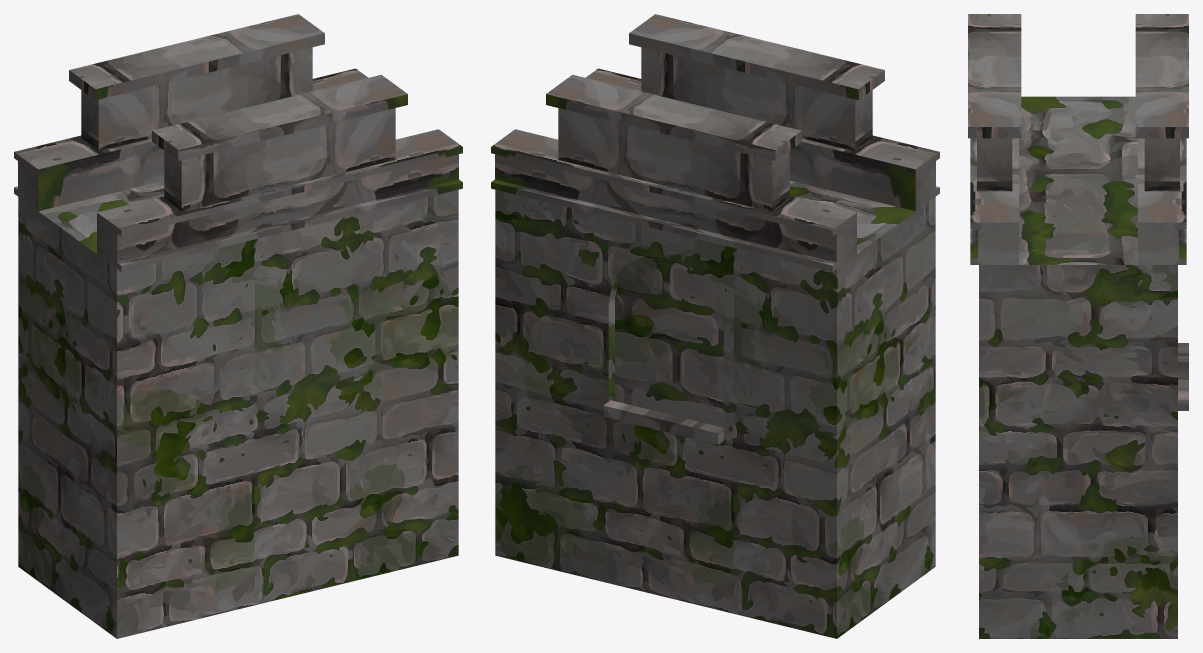
The model's file is wall00.fbx.
3 views of the same model, side by side, from view 1: azimuth 30°, elevation 25°; view 2: azimuth 150°, elevation 25°; view 3: azimuth 270°, elevation 25° (orthographic).
Visible parts, largest first — view 1: Cube.010; view 2: Cube.010; view 3: Cube.010.
Part boxes in pixels (left/top/right/bottom): Cube.010: left=14, top=14, right=462, bottom=638; Cube.010: left=491, top=14, right=939, bottom=638; Cube.010: left=968, top=14, right=1188, bottom=638.
Bounding box in the file's own units: 400 × 222 × 536.
